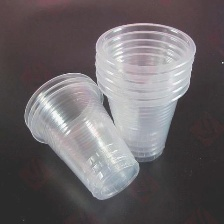glass: (12, 69, 144, 206), (89, 19, 197, 168)
